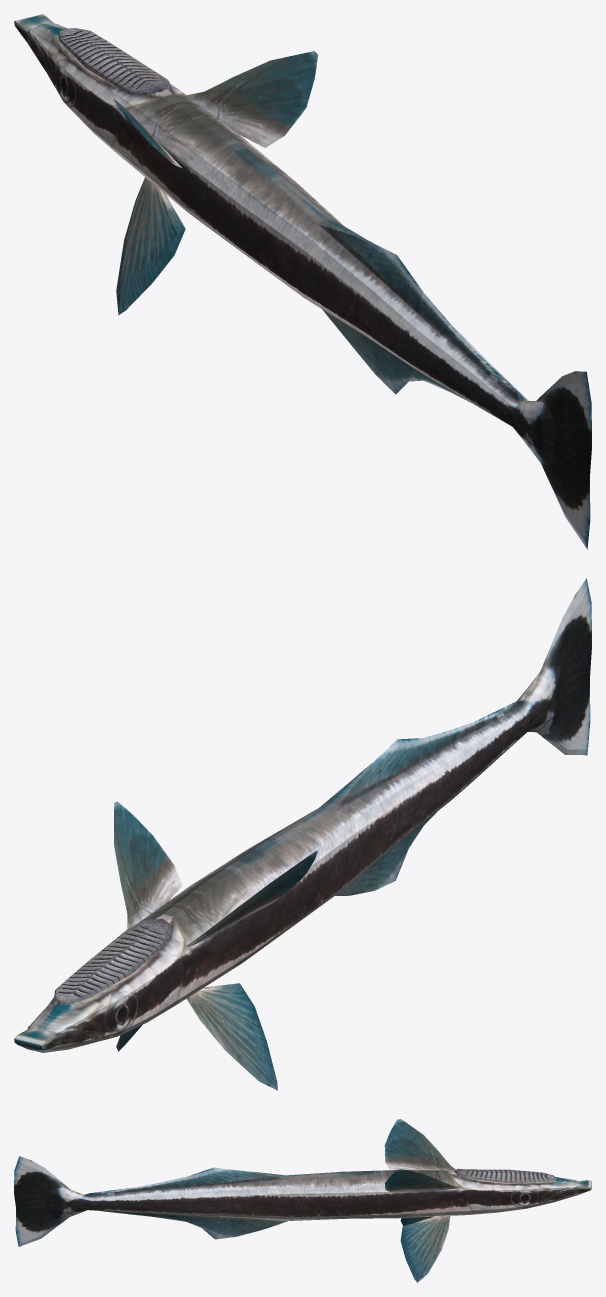
File: echeneis-neucratoides.glb
3 views of the same model, one above another, from view 1: azimuth 30°, elevation 25°; view 2: azimuth 150°, elevation 25°; view 3: azimuth 270°, elevation 25° (orthographic). The views are drawn at different scales.
Visible parts, largest first — view 1: e neucratoides, pectoral.r, pelvic.l; view 2: e neucratoides, pectoral.r, pelvic.l, pectoral.l; view 3: e neucratoides, pectoral.l, pelvic.r, pectoral.r.
Part boxes in pixels (box(x1,y1,x2,y2)): e neucratoides: box(14, 14, 591, 549); pectoral.r: box(187, 51, 317, 147); pelvic.l: box(116, 177, 185, 315); e neucratoides: box(14, 578, 591, 1052); pectoral.r: box(114, 801, 182, 928); pelvic.l: box(186, 983, 277, 1090); pectoral.l: box(186, 850, 317, 946); e neucratoides: box(14, 1156, 591, 1246); pectoral.l: box(384, 1119, 455, 1170); pelvic.r: box(400, 1215, 450, 1282); pectoral.r: box(384, 1169, 459, 1192).
Bounding box in the file's own units: 1.13 × 1.25 × 5.49.
2 materials, 2 textured.
